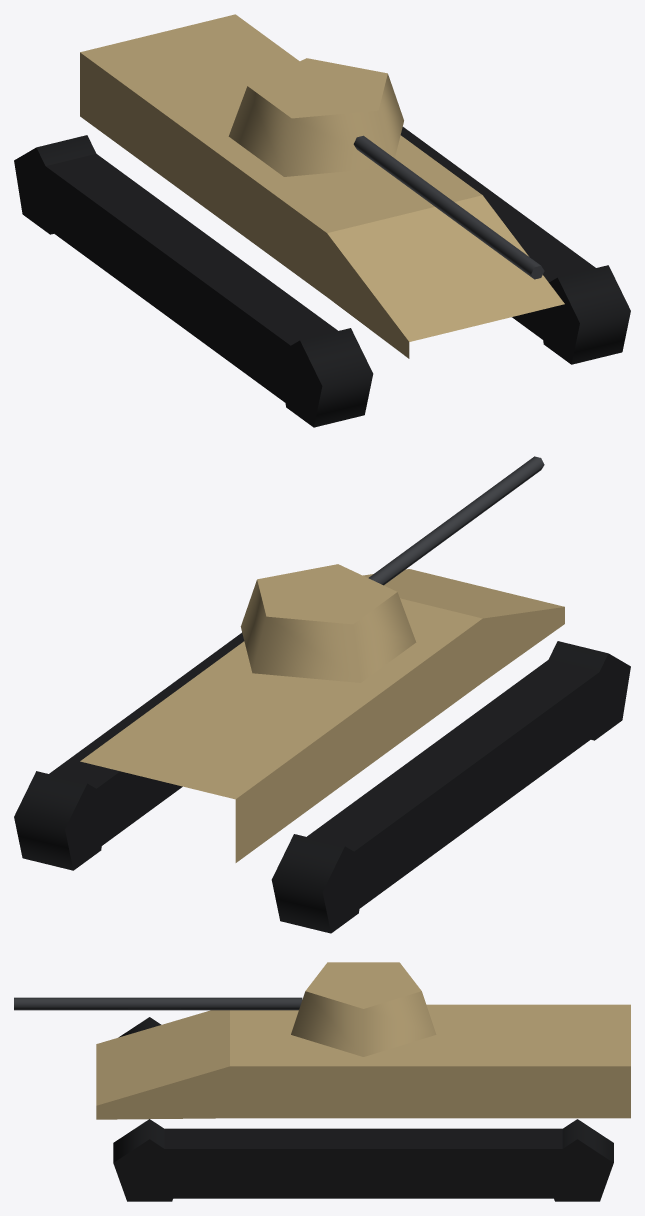
File: veh_ground_tank_light_a07_lod1.glb
3 views of the same model, one above another, from view 1: azimuth 30°, elevation 25°; view 2: azimuth 150°, elevation 25°; view 3: azimuth 270°, elevation 25° (orthographic). The views are drawn at different scales.
Parts seen in each view (by area): view 1: body, track_r, turret, track_l; view 2: body, track_r, turret, track_l; view 3: body, track_l, turret.
Part boxes in pixels (x1,y1,x2,y2): body: [80, 14, 564, 358]; track_r: [14, 135, 373, 427]; turret: [228, 58, 544, 279]; track_l: [400, 127, 630, 364]; body: [80, 569, 564, 862]; track_r: [271, 641, 630, 933]; turret: [240, 456, 544, 682]; track_l: [14, 632, 244, 870]; body: [96, 1004, 630, 1119]; track_l: [113, 1119, 613, 1201]; turret: [14, 962, 436, 1056].
Size of the model in its own units: 3.21 by 1.93 by 6.85.
